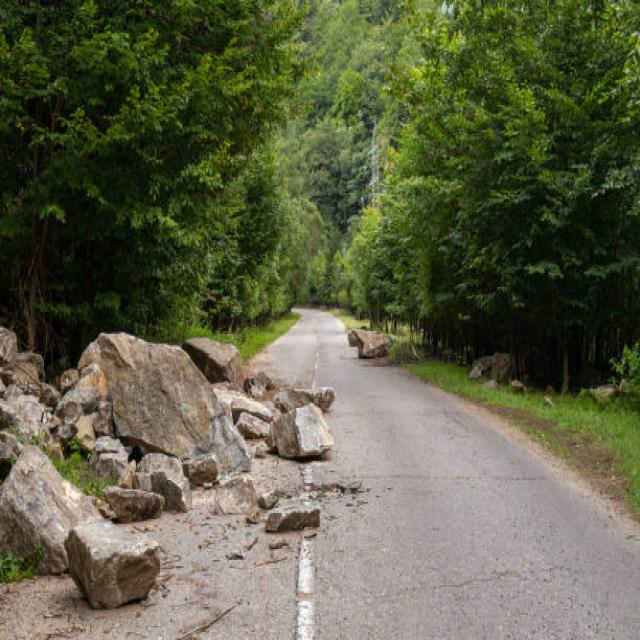landSliding: (52, 261, 482, 635)
